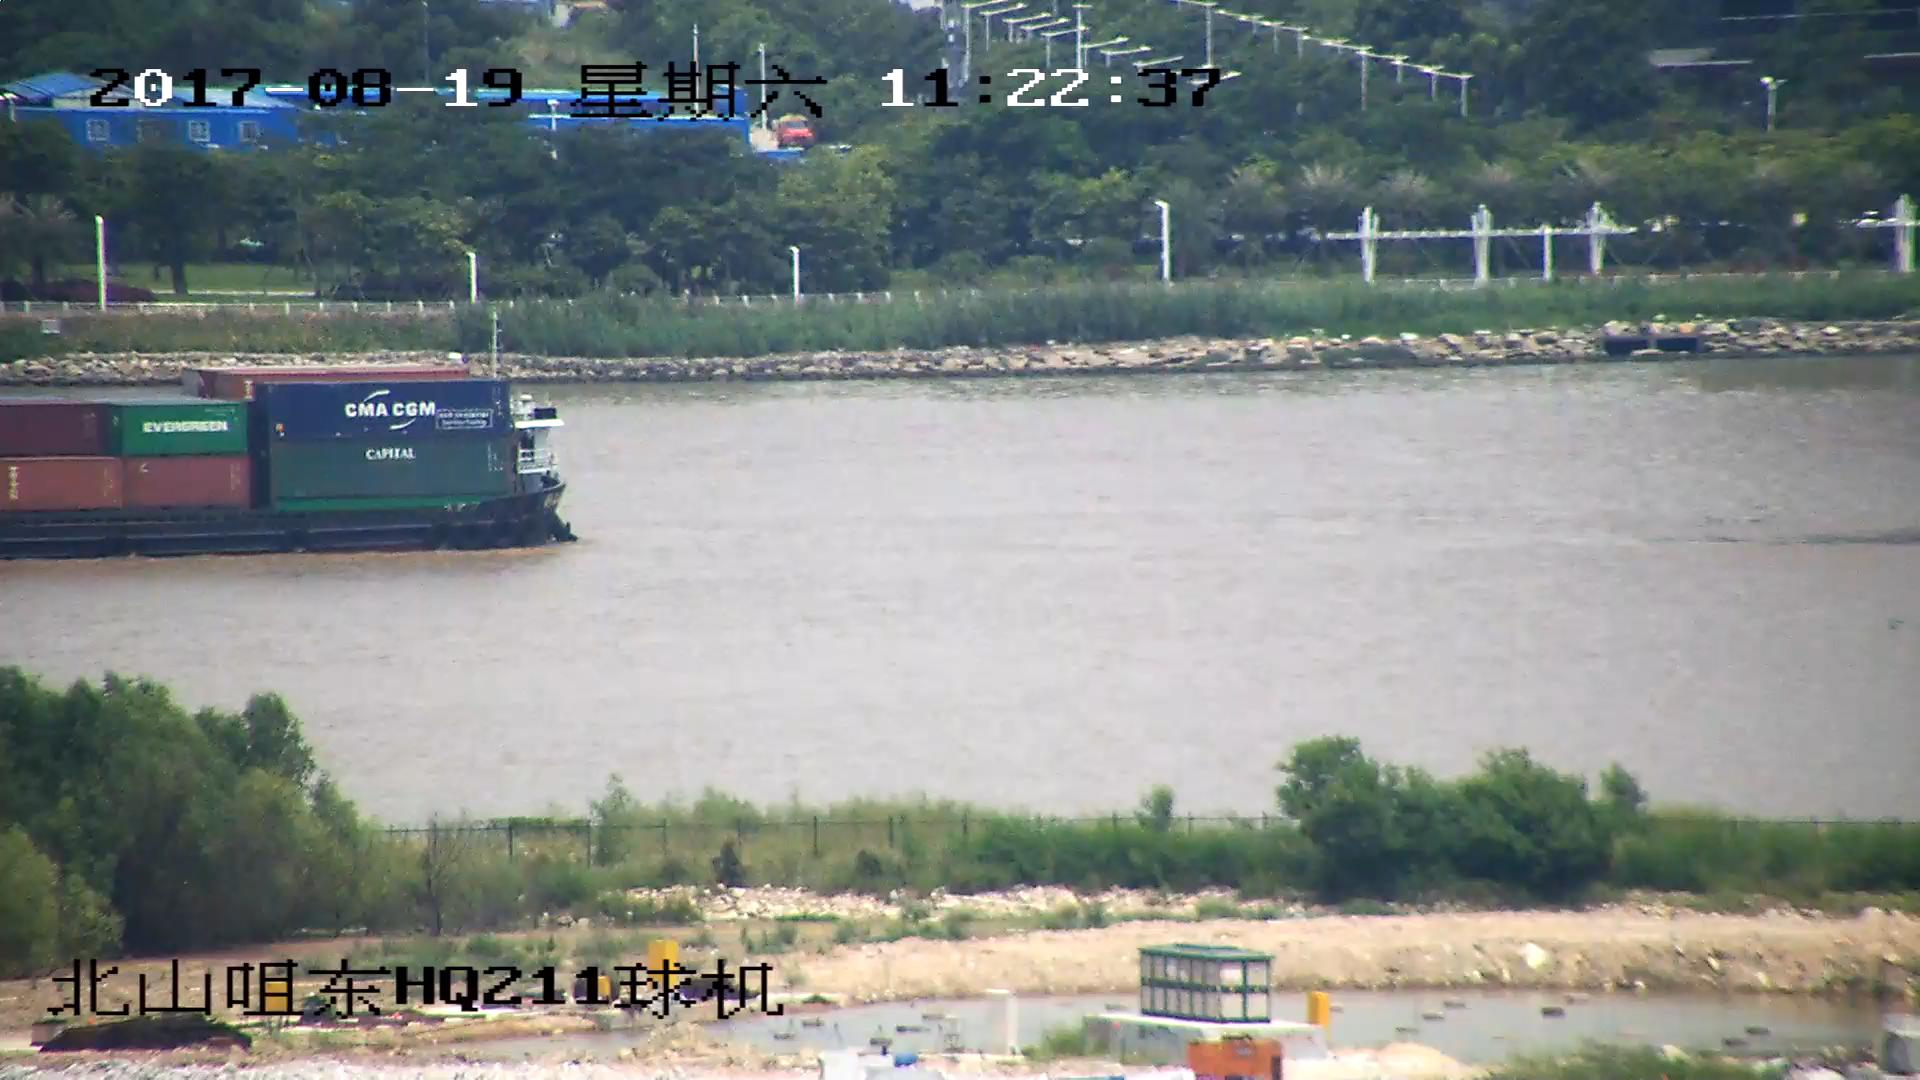container ship: (1, 311, 578, 556)
